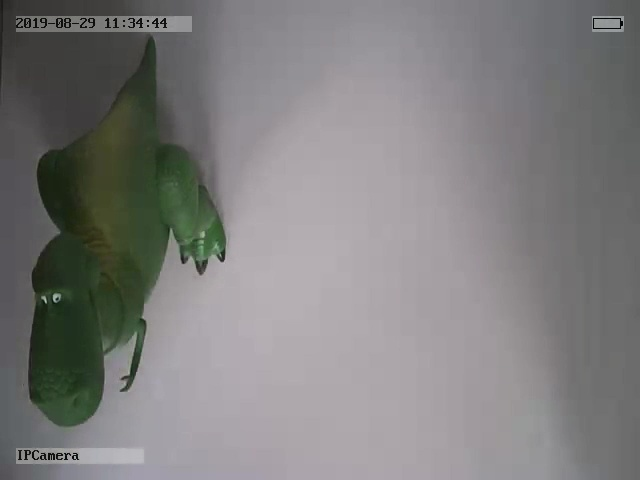rex: (26, 36, 226, 428)
